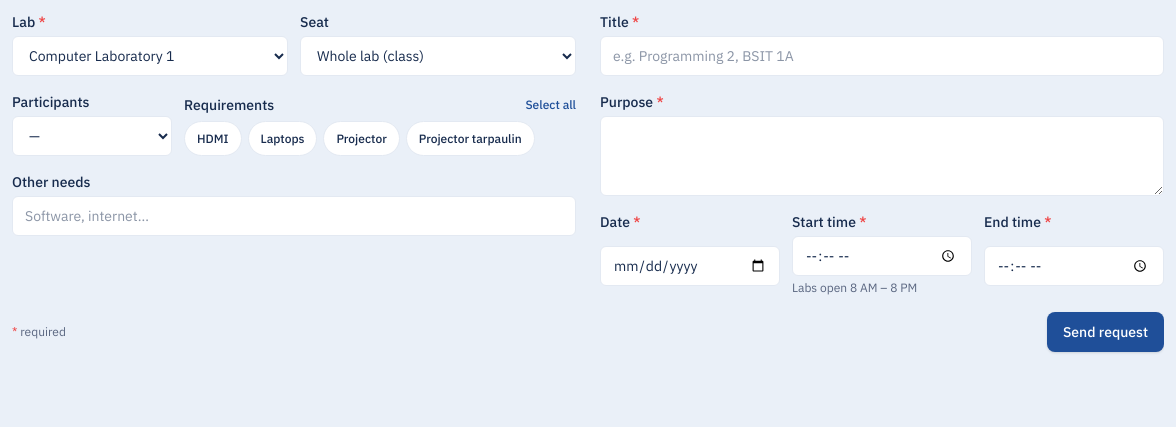
Test case: ReservationForm › shows an error and does not submit when end is not after start
In the field labelled "Title *": (882, 56) [600,36,1164,76], type "Programming 1"
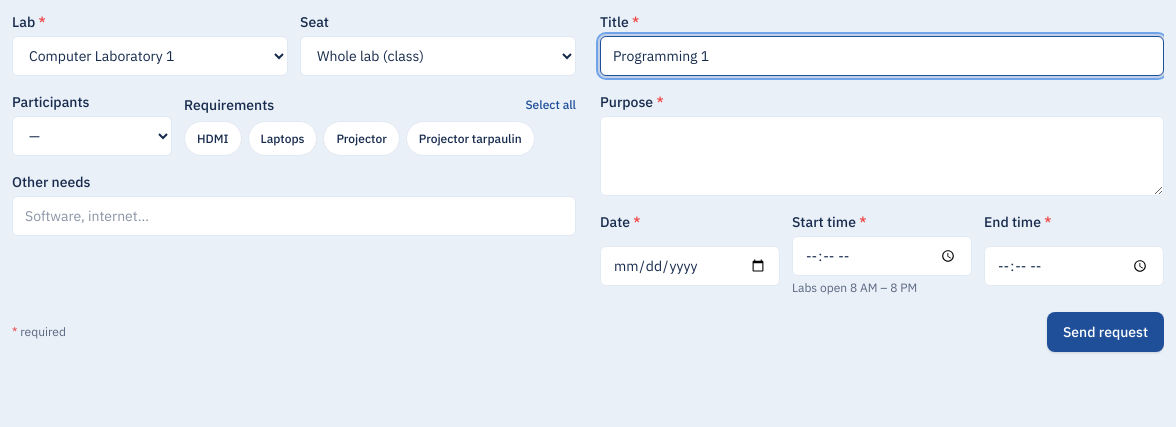
In the text box labelled "Purpose *": (882, 156) [600,116,1164,196], type "Lab class"
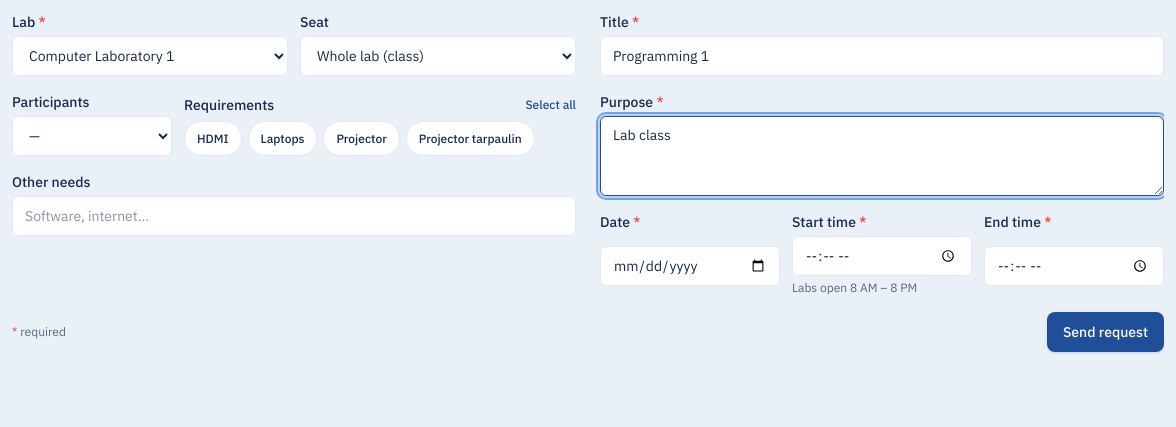
In the date field labelled "Date *": (690, 266) [600,246,780,286], type "2099-01-05"
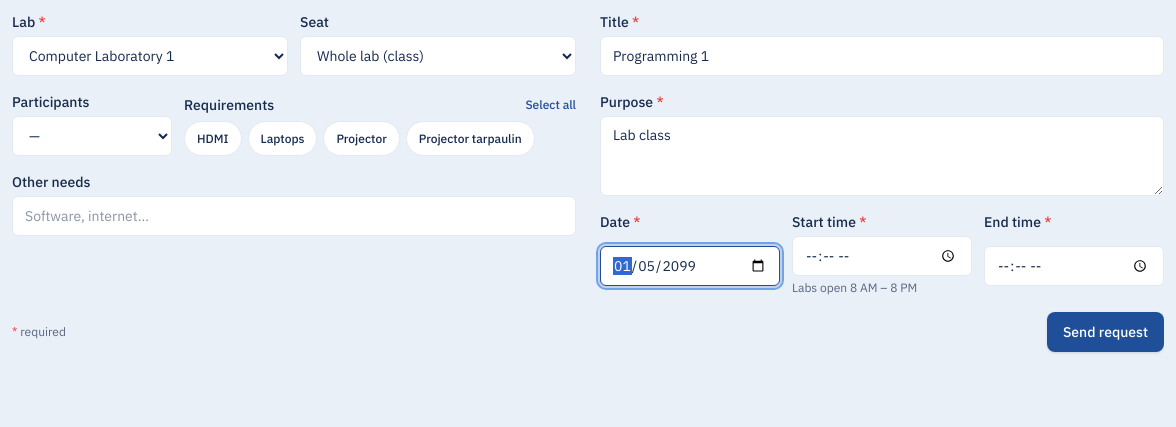
In the time field labelled "Start time * Labs open 8 AM – 8 PM": (882, 256) [792,236,972,276], type "08:00"
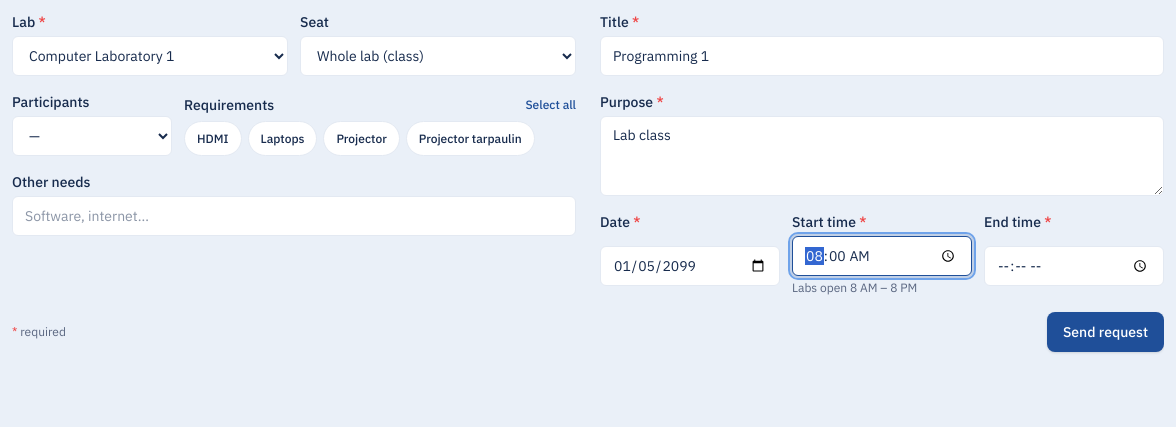
In the time field labelled "End time *": (1074, 266) [984,246,1164,286], type "08:00"
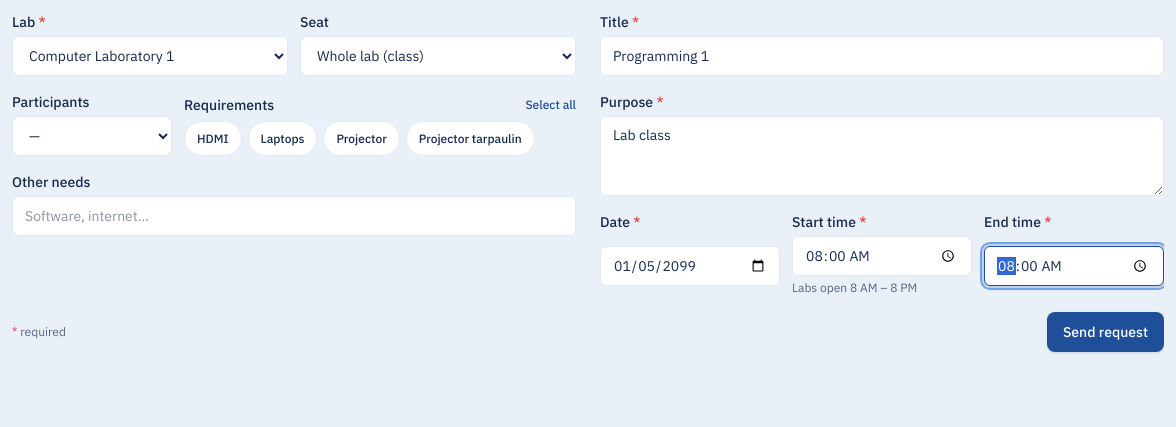
Click the button "Send request": (1106, 332) [1047,312,1164,352]
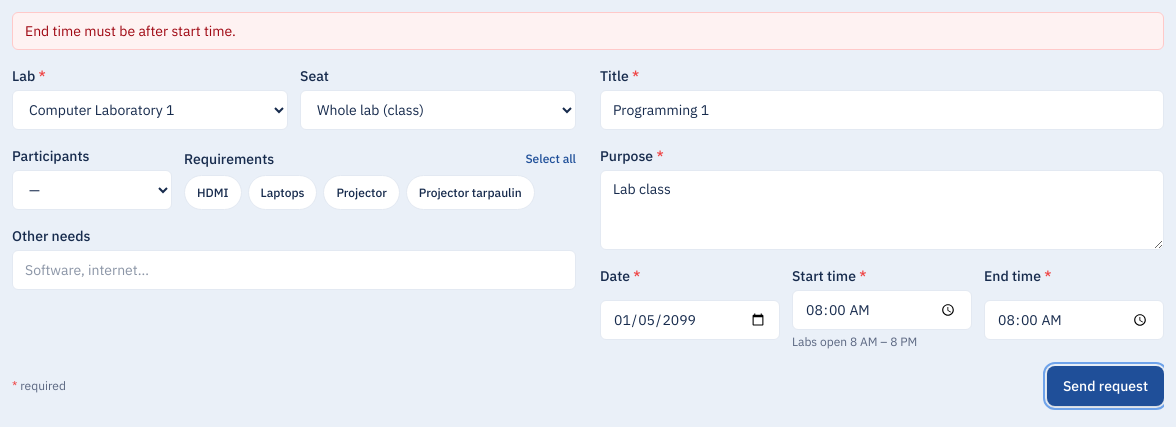
Result: the list item "End time must be after start time." is shown at [25,22,236,40]
